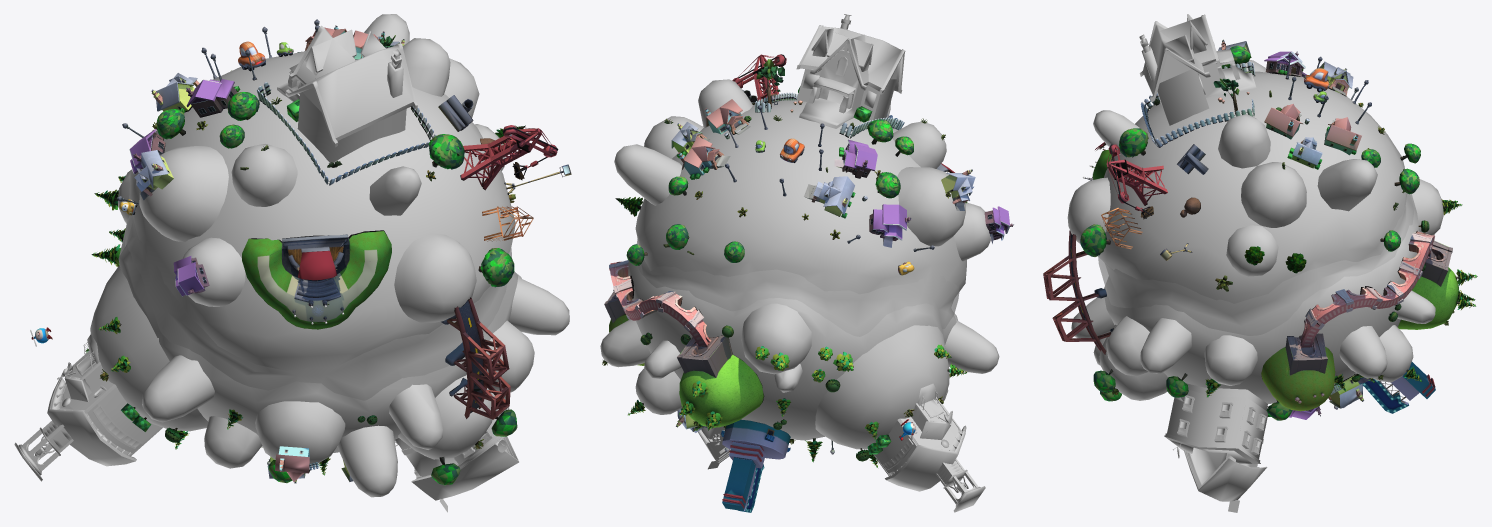
Rendered from CoryCarson.fbx.
3 views of the same model, side by side, from view 1: azimuth 30°, elevation 25°; view 2: azimuth 150°, elevation 25°; view 3: azimuth 270°, elevation 25° (orthographic). The views are drawn at different scales.
Visible parts, largest first — view 1: Cube.005, Cylinder.002, Rectangle009.001, bombeiro, casa_amarela.001, RioComTransparencia.001, Cylinder.003, Cylinder.006, Cube.001, Cylinder.005, Cube.002, TampaLataDeLixo.002 (+3 smaller); view 2: Cube.005, Cylinder.002, trem, RioComTransparencia.001, casa_amarela.001, bombeiro, Cube.001, Cylinder.006, Cylinder.005, TampaLataDeLixo.002, Cube.002, Cube.009 (+2 smaller); view 3: Cube.005, Cylinder.002, trem, bombeiro, RioComTransparencia.001, casa_amarela.001, Cube.001, Cylinder.006, Cylinder.003, Rectangle009.001, Cylinder.005, TampaLataDeLixo.002 (+2 smaller).
Boxes of the visible parts, x1,y1,x2,y2 form: Cube.005: (118,51,518,452); Cylinder.002: (90,14,569,497); Rectangle009.001: (242,230,510,419); bombeiro: (14,334,518,512); casa_amarela.001: (277,25,417,163); RioComTransparencia.001: (125,215,511,400); Cylinder.003: (438,95,571,241); Cylinder.006: (156,92,525,287); Cube.001: (129,25,404,173); Cylinder.005: (85,175,517,485); Cube.002: (134,150,209,296); TampaLataDeLixo.002: (117,19,436,204); Cube.005: (628,100,966,440); Cylinder.002: (600,79,999,449); trem: (604,260,790,512); RioComTransparencia.001: (636,238,959,336); casa_amarela.001: (796,14,905,128); bombeiro: (698,383,985,512); Cube.001: (671,99,911,247); Cylinder.006: (615,86,913,265); Cylinder.005: (628,344,967,467); TampaLataDeLixo.002: (724,59,934,251); Cube.002: (941,169,1013,243); Cube.009: (602,325,943,461); Cube.005: (1098,71,1418,404); Cylinder.002: (1067,59,1443,400); trem: (1261,231,1458,413); bombeiro: (1164,383,1268,512); RioComTransparencia.001: (1098,194,1413,335); casa_amarela.001: (1139,14,1256,125); Cube.001: (1264,51,1361,168); Cylinder.006: (1080,45,1420,273); Cylinder.003: (1101,144,1208,260); Rectangle009.001: (1043,142,1113,354); Cylinder.005: (1093,199,1477,420); TampaLataDeLixo.002: (1141,52,1371,147).
Size of the model in its own units: 270 by 294 by 264.
